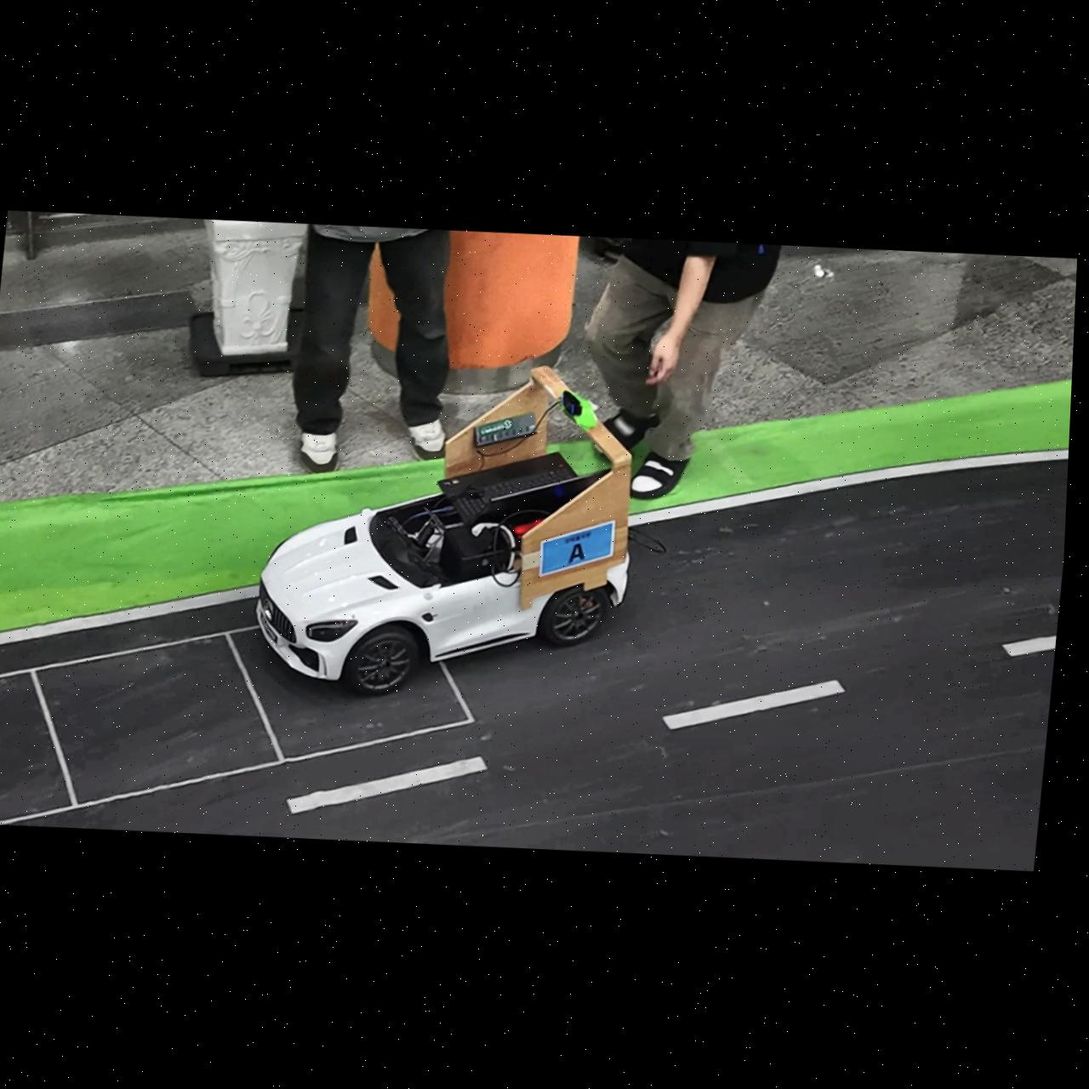broken_line: (286, 756, 486, 813), (661, 680, 845, 730), (1002, 635, 1055, 655)
